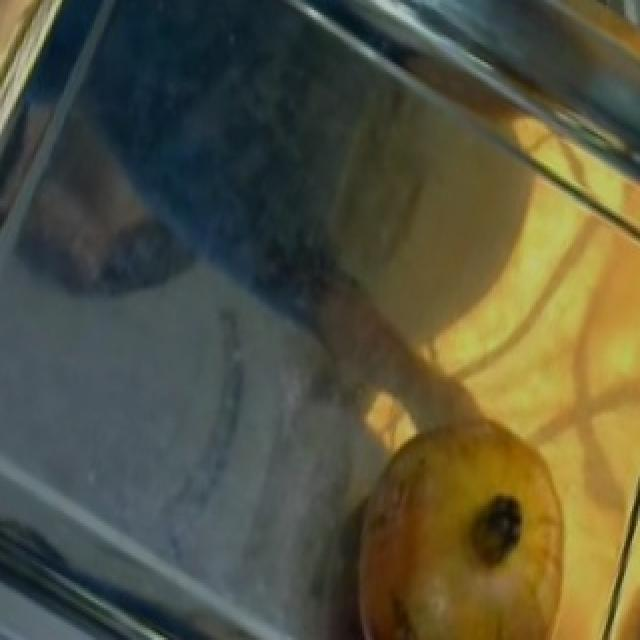fruit: (328, 387, 600, 640)
